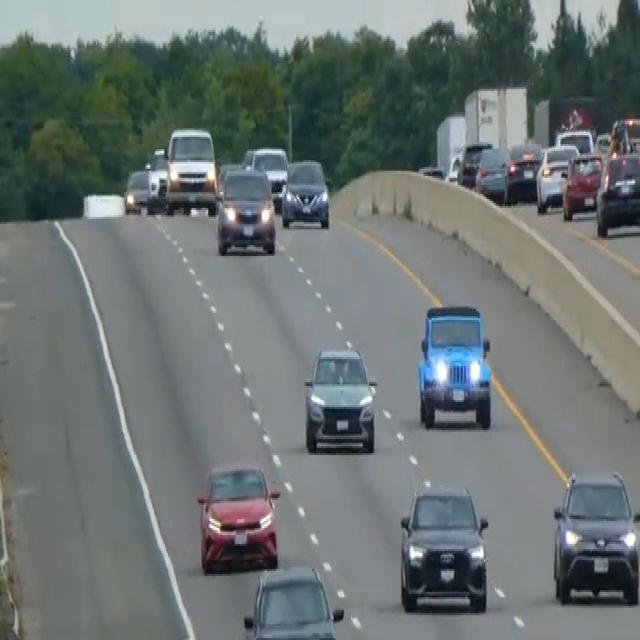car: (551, 466, 639, 606), (398, 482, 489, 613), (196, 457, 281, 572), (302, 343, 378, 453), (242, 564, 344, 638), (216, 165, 276, 256), (595, 150, 639, 236), (281, 156, 330, 230), (535, 142, 578, 212), (561, 149, 603, 219), (244, 144, 288, 208), (474, 144, 513, 203), (506, 141, 542, 199), (456, 138, 491, 188), (144, 146, 169, 208), (124, 167, 151, 213), (610, 114, 639, 154), (554, 126, 594, 155), (216, 158, 243, 198)
jeep: (416, 300, 493, 430)
minivan: (163, 125, 219, 215)
